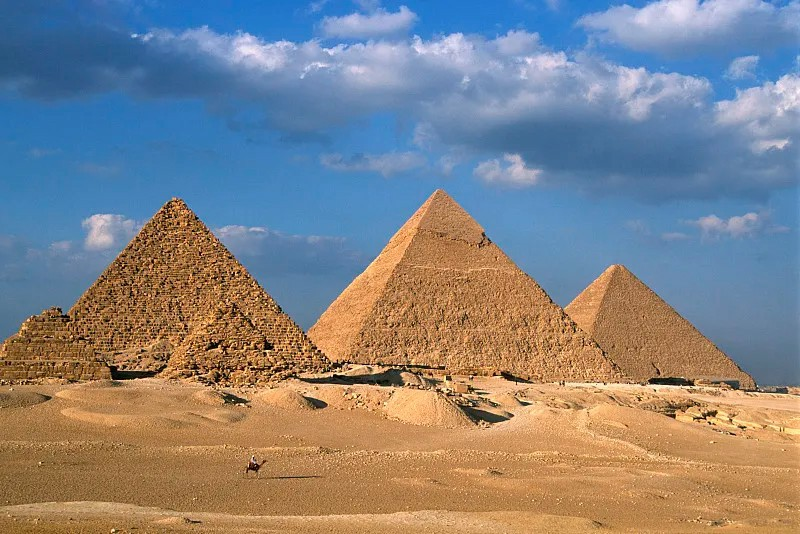Pyramid: (307, 189, 633, 385), (66, 198, 333, 368), (564, 264, 758, 388), (155, 299, 298, 385), (2, 308, 114, 382)
